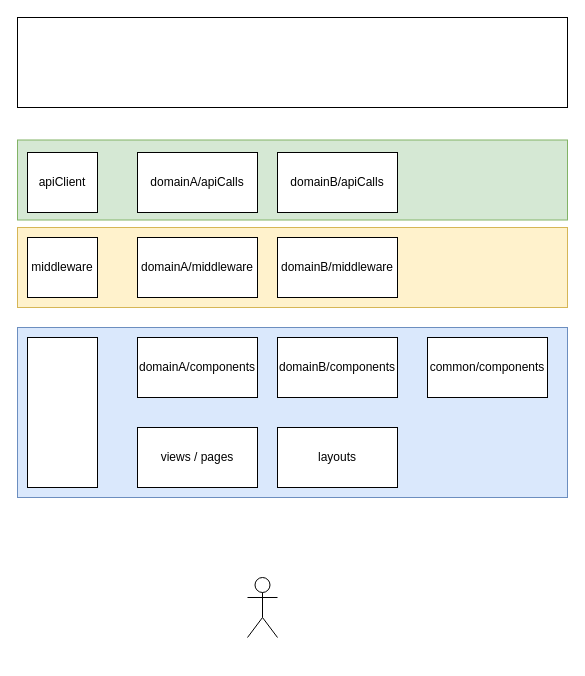
This 585x676 diagram has some shape labels left out. Here are the shapes that lost their labels. From the top down, the centre of each, then its label:
(292,62): REST backend / GraphQL backend
(62,412): ui layer
(262,607): User
